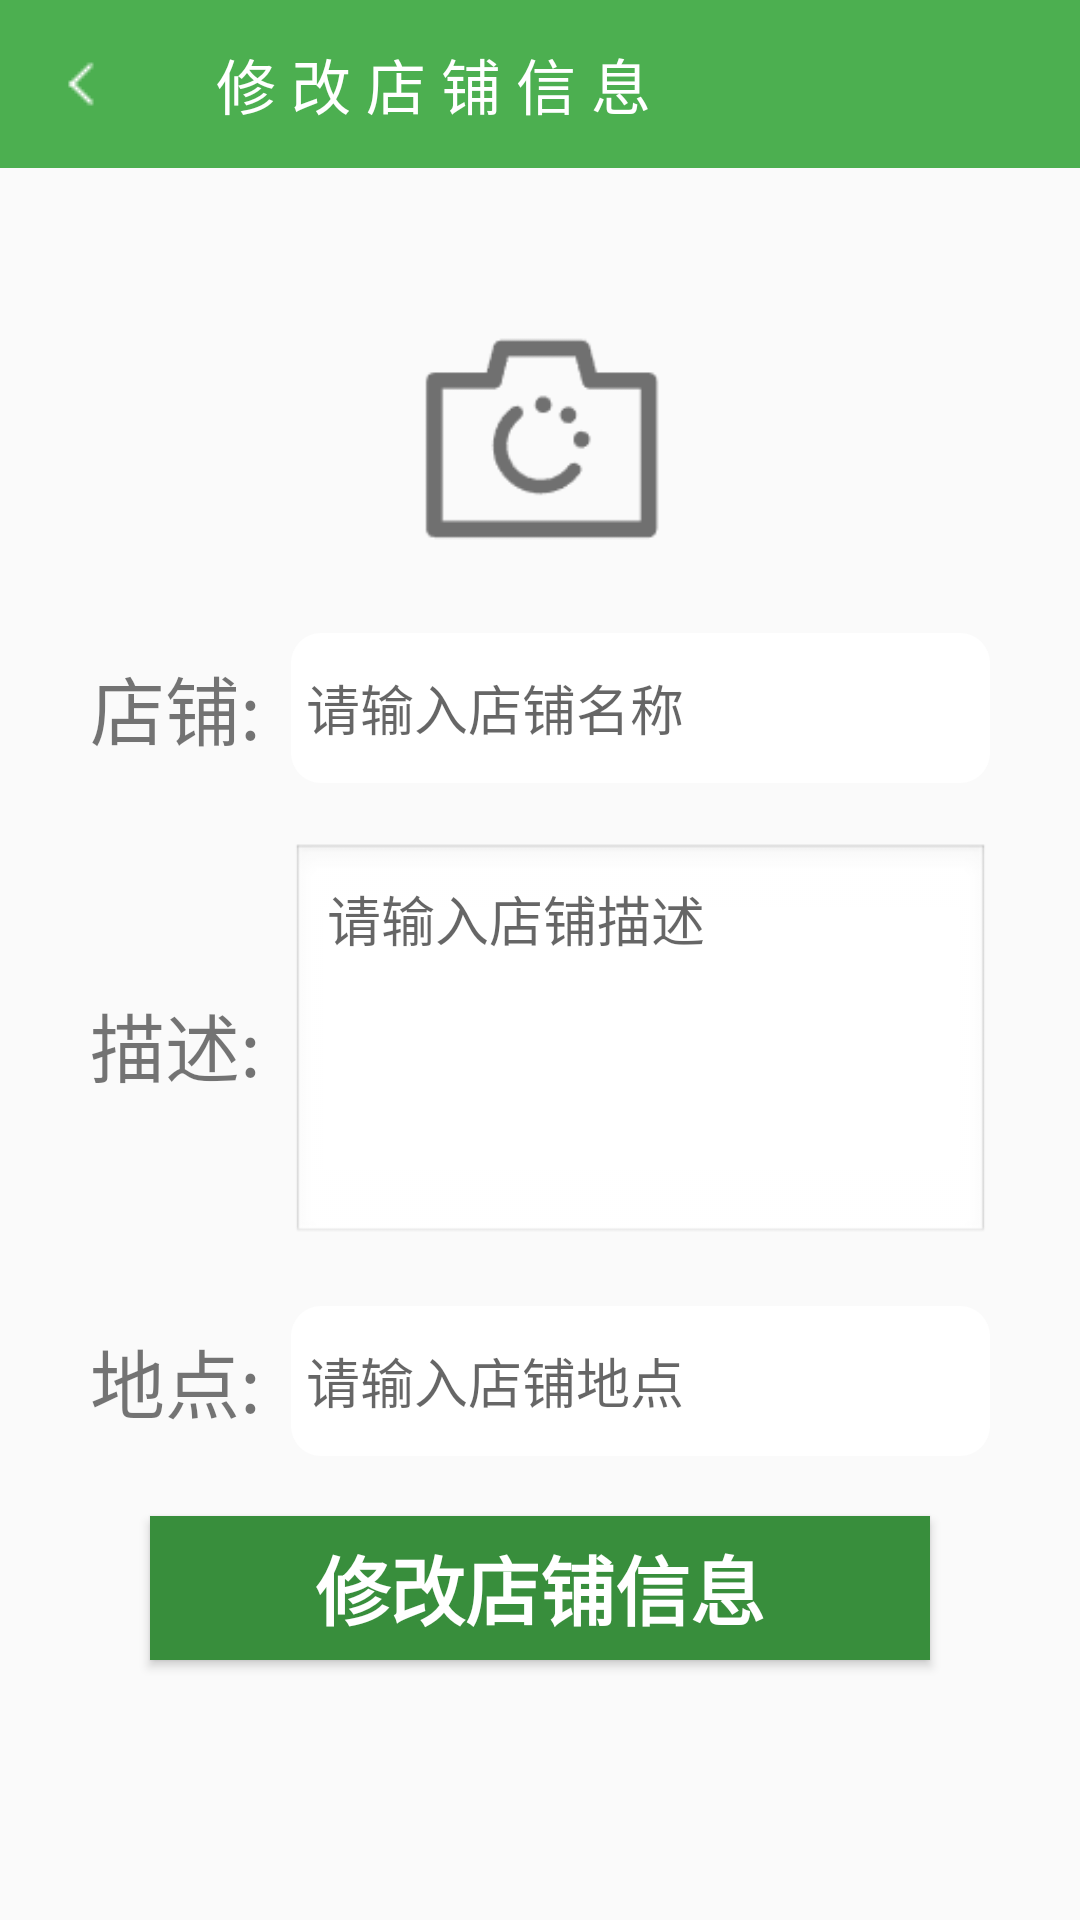

Icon click points for this 1080px x 1920px phone screenshot, format (x=x, y=y):
upimg: (x=541, y=438)
